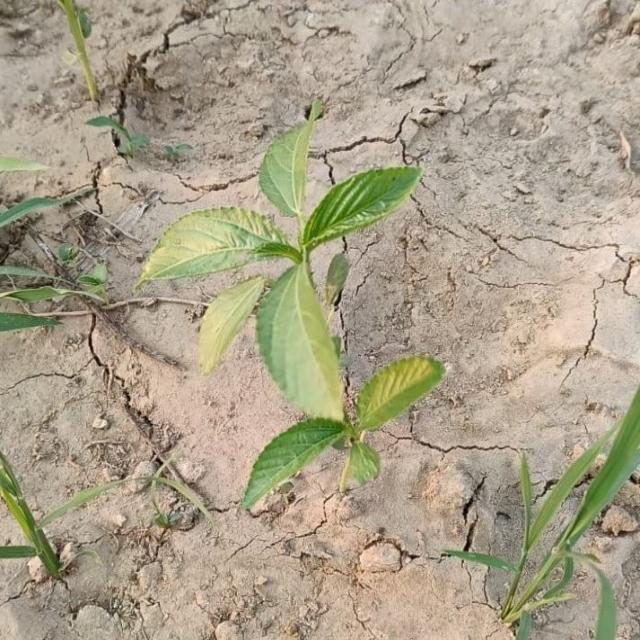plant: (136, 100, 445, 510)
